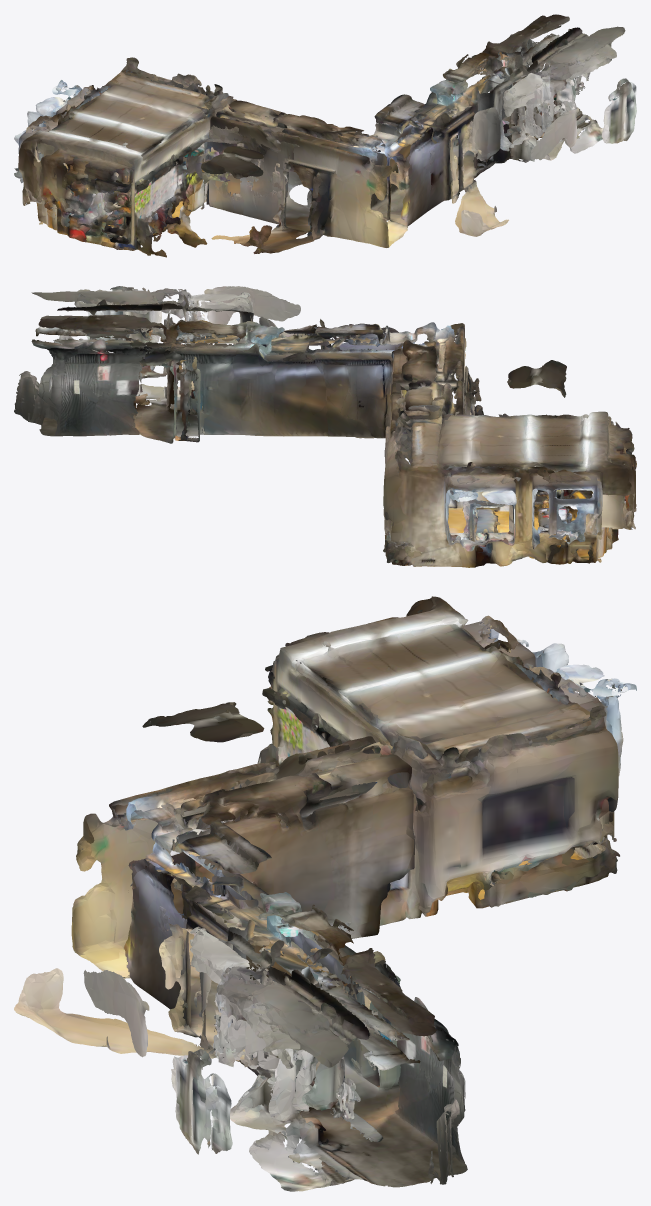
File: c306-lite.glb
3 views of the same model, one above another, from view 1: azimuth 30°, elevation 25°; view 2: azimuth 150°, elevation 25°; view 3: azimuth 270°, elevation 25° (orthographic). The views are drawn at different scales.
Visible parts, largest first — view 1: mesh; view 2: mesh; view 3: mesh.
Part boxes in pixels (box(x1,y1,x2,y2)): mesh: box(14, 14, 636, 257); mesh: box(14, 286, 636, 567); mesh: box(14, 596, 636, 1191).
Bounding box in the file's own units: 19.29 × 3.38 × 10.85.
1 material, 1 textured.
